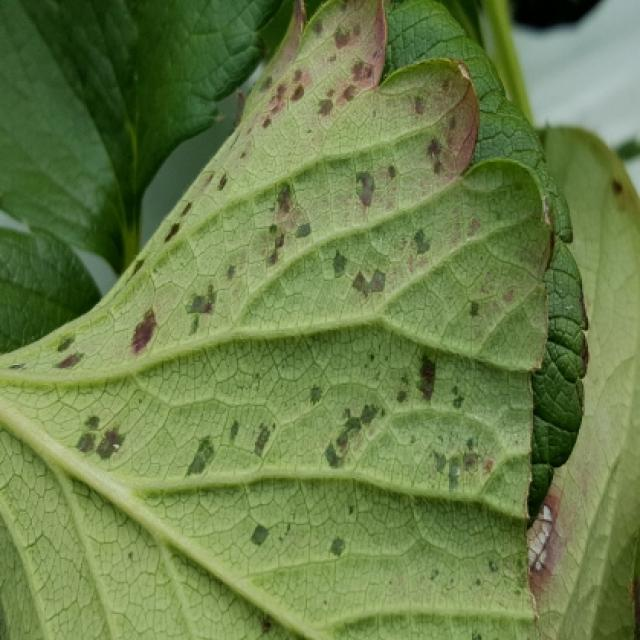Angular Leafspot: (3, 0, 558, 638), (526, 455, 595, 638)
